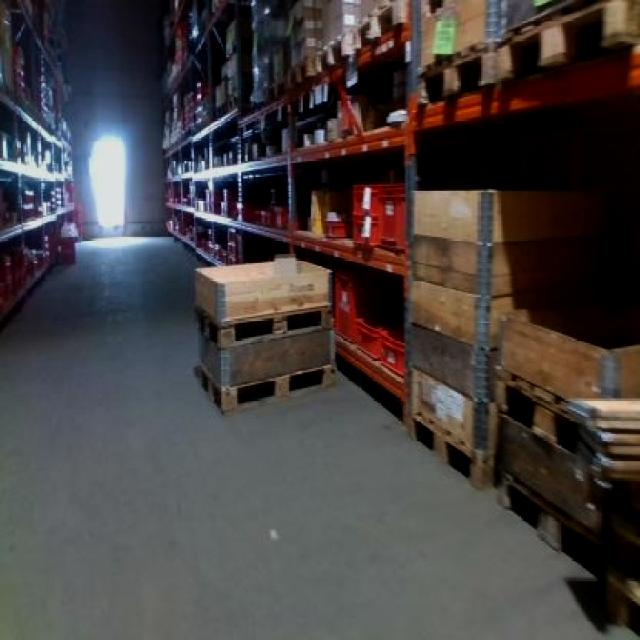floor: (0, 235, 625, 637)
pallets: (406, 188, 602, 483), (194, 255, 332, 409)
